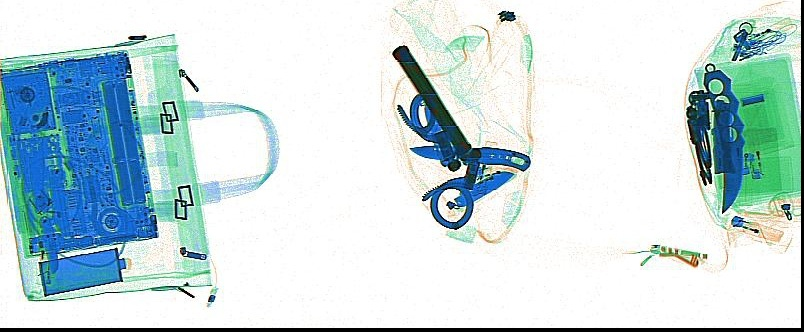handcuffs: (394, 91, 479, 229), (684, 88, 713, 187)
knife: (701, 62, 745, 213), (408, 143, 530, 170), (450, 169, 514, 210), (709, 98, 736, 175), (38, 216, 58, 273)
lighter: (729, 213, 783, 243)
zippooil: (38, 247, 127, 298)
